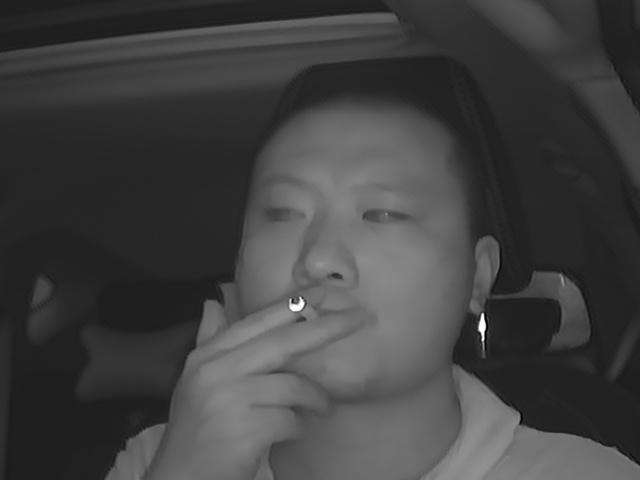hand: (214, 282, 359, 453)
